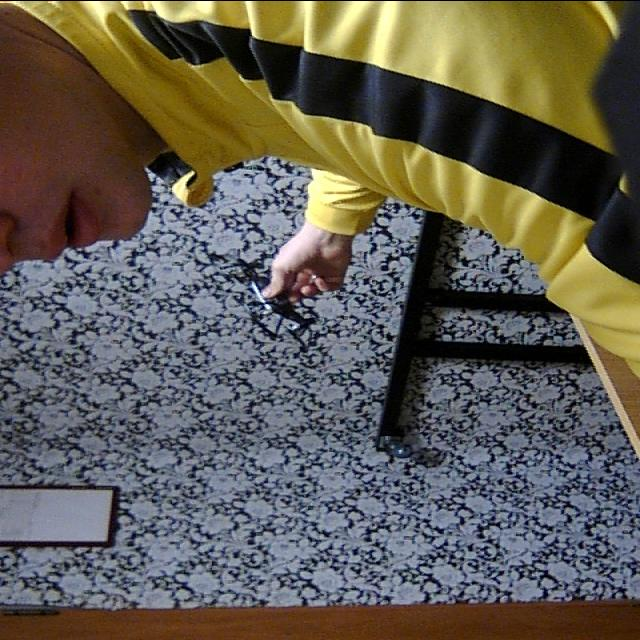drone: (204, 248, 316, 350)
